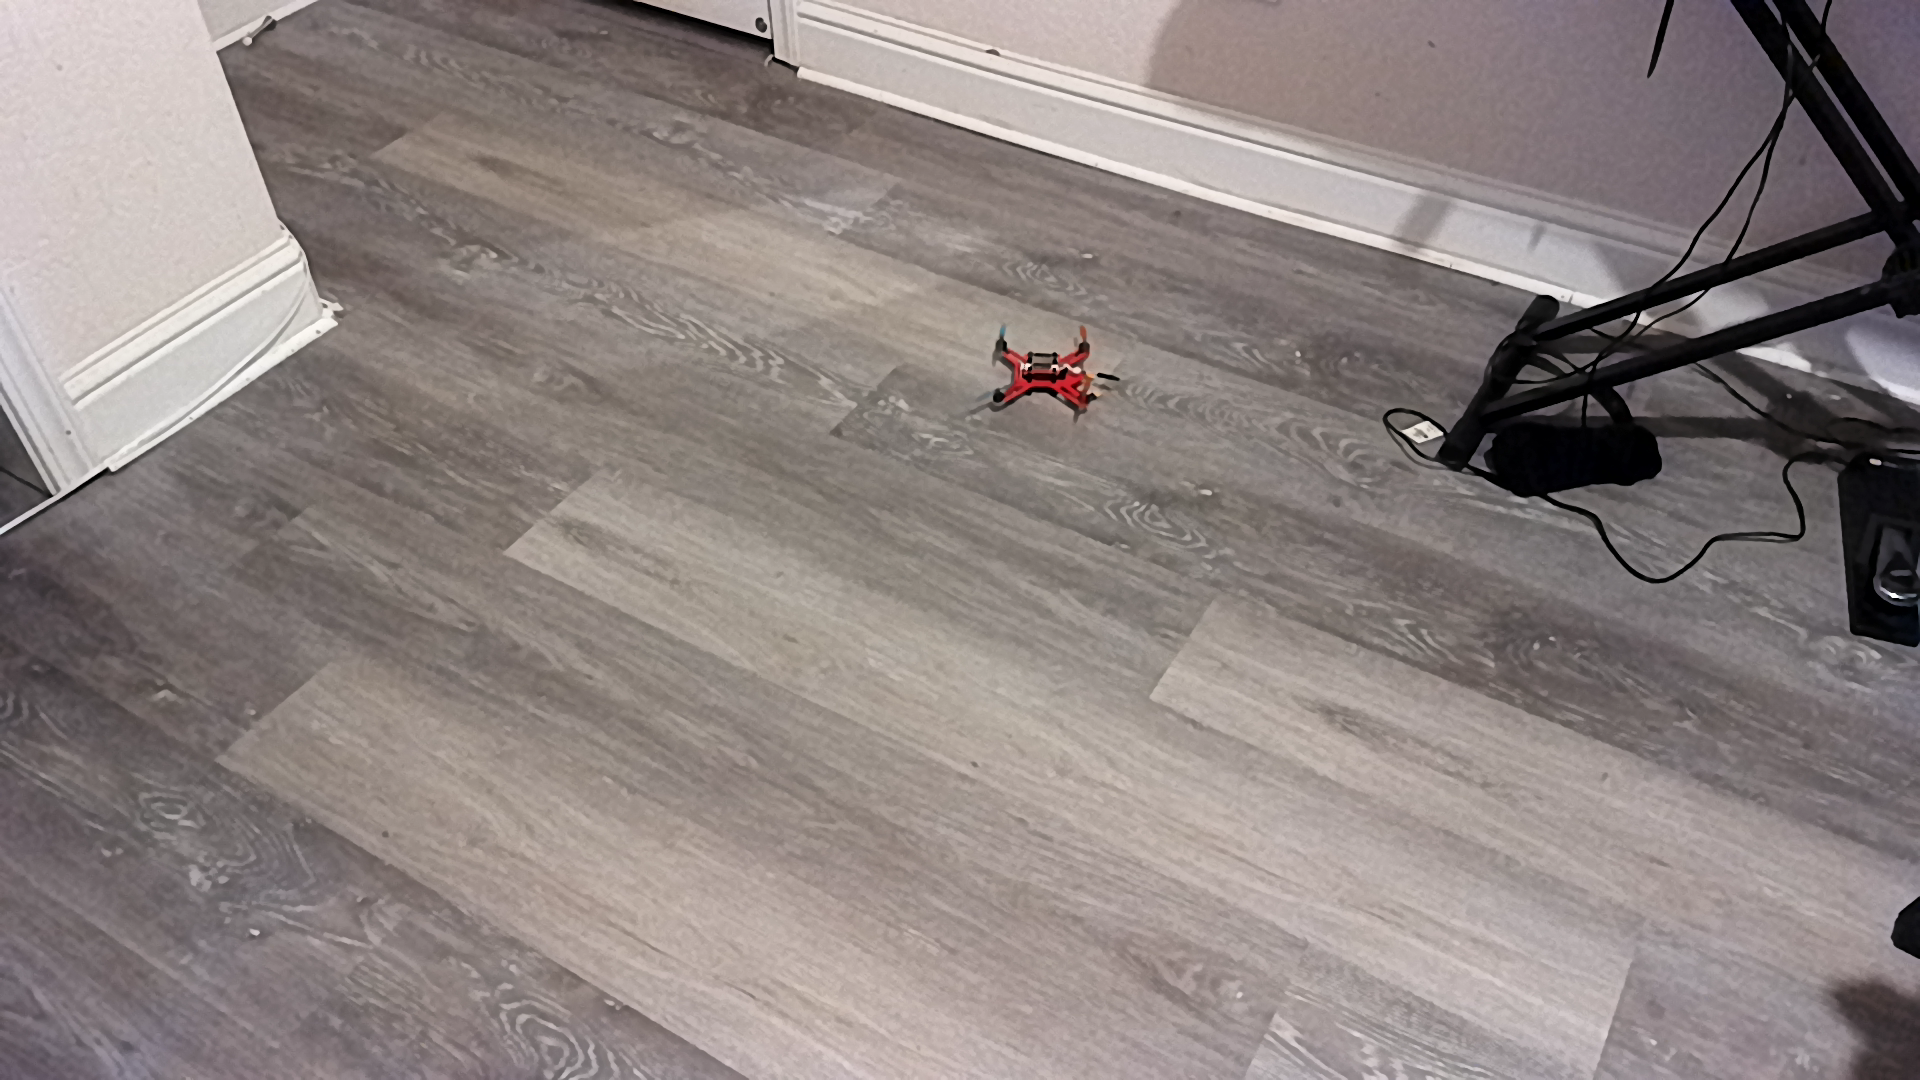drone: (980, 320, 1131, 426)
